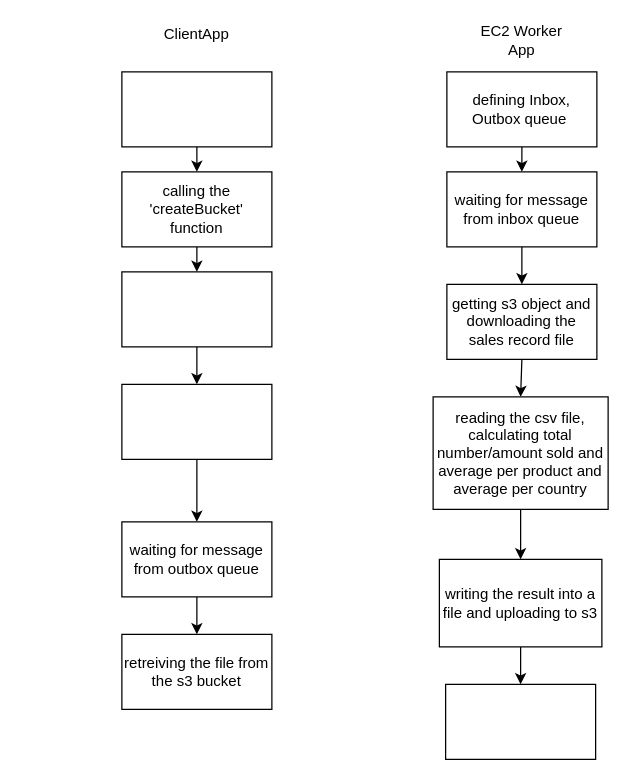
Some shapes in this 630 by 781 pixel diagram are drawn without their labels. The shapes that lost their labels are listed below. From the top down, each one's box as (x1, y1, x2, y2) in pixels, then its label:
(121, 71, 272, 147): Initializing bucketName, S3 client, key and file path
(121, 271, 272, 347): putS3Object to upload the file
(121, 383, 272, 459): Initializing message and sending at Inbox queue.
(444, 683, 596, 759): sending a message on outbox queue
